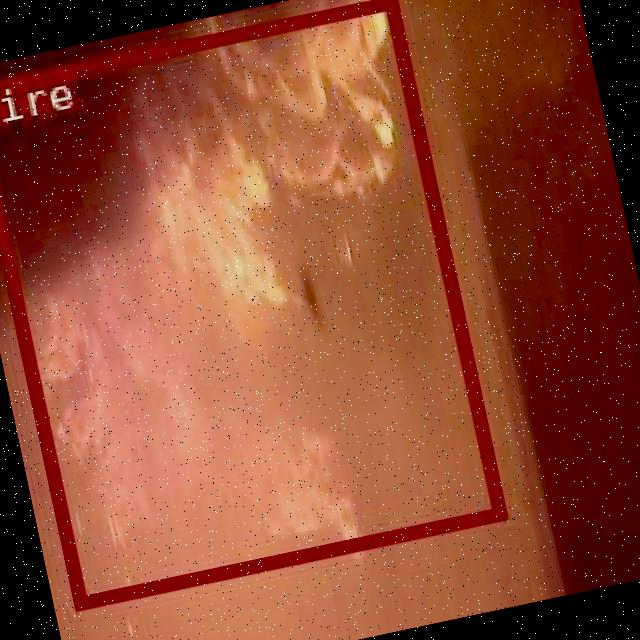fire: (0, 0, 504, 609)
